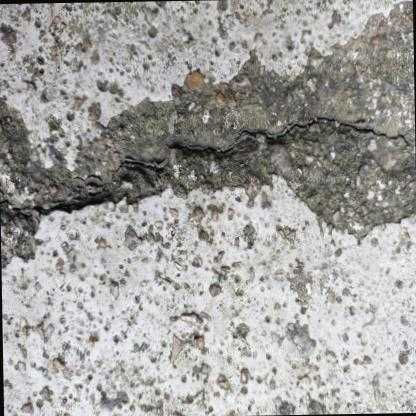crack: (1, 111, 415, 223)
